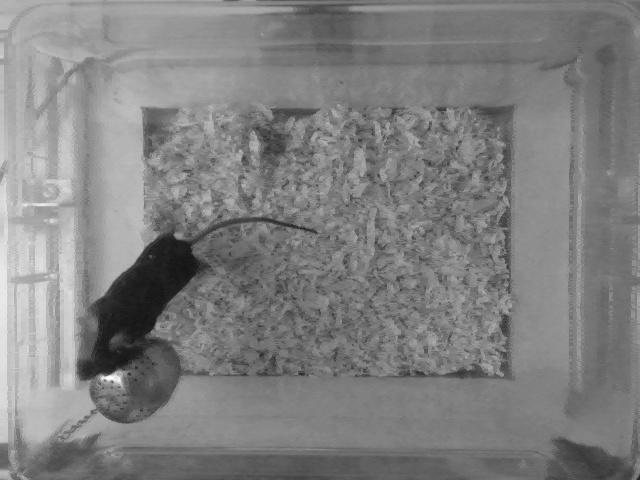mice: (77, 217, 321, 376)
